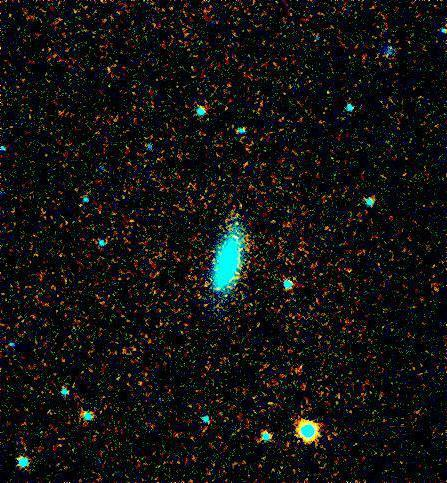star: (128, 370, 158, 400)
